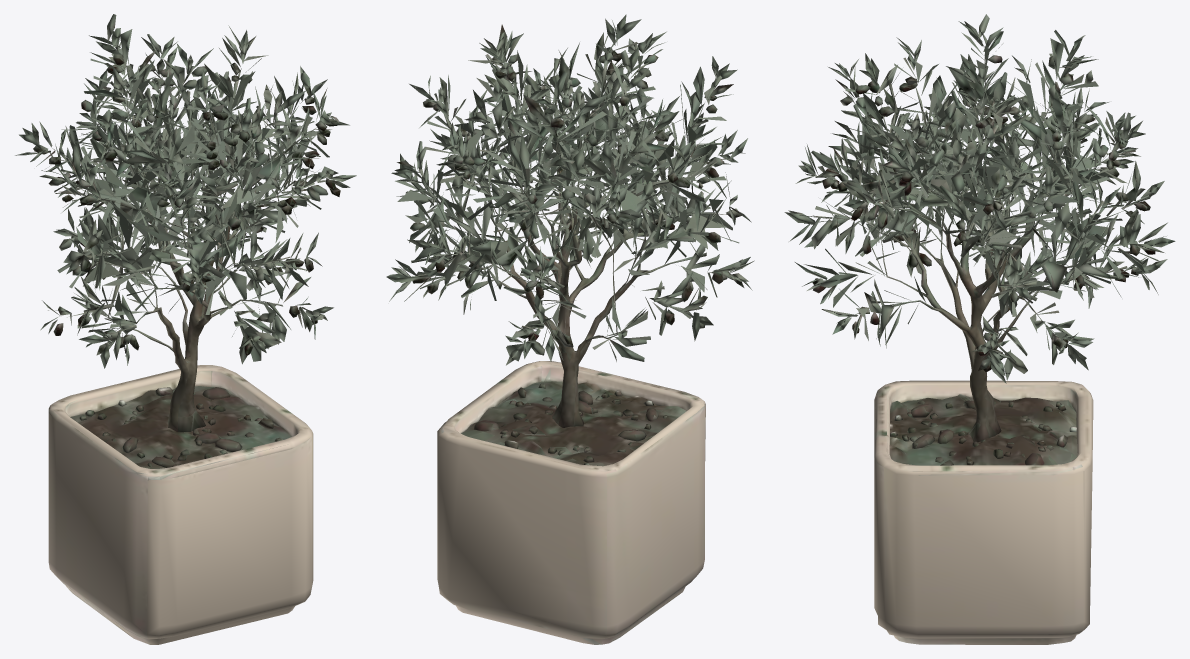
File: plant_olive.glb
3 views of the same model, side by side, from view 1: azimuth 30°, elevation 25°; view 2: azimuth 150°, elevation 25°; view 3: azimuth 270°, elevation 25° (orthographic). The views are drawn at different scales.
Parts seen in each view (by area): view 1: prop; view 2: prop; view 3: prop.
Part boxes in pixels (x1,y1,x2,y2): prop: [15, 14, 356, 644]; prop: [386, 14, 754, 644]; prop: [784, 14, 1175, 644].
Bounding box in the file's own units: 0.8541 × 1.5 × 0.9411.
Materials: 1 (1 with a texture image).
